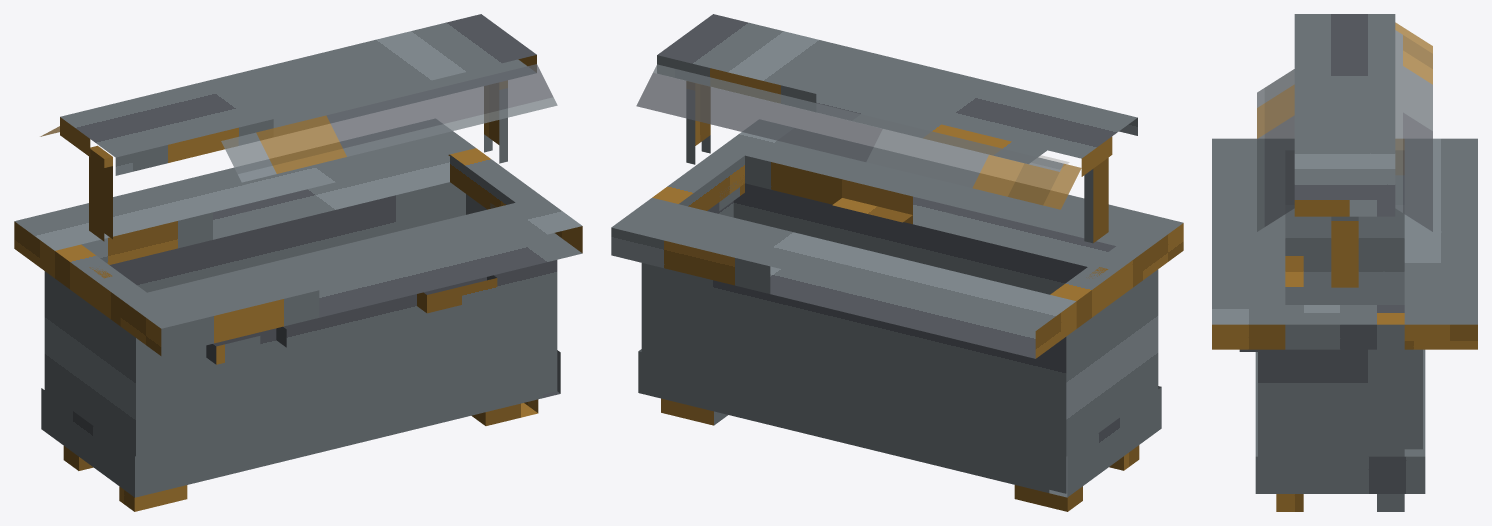
The model's file is food_stand_dual.fbx.
3 renders of one model, left to right at view 1: azimuth 30°, elevation 25°; view 2: azimuth 150°, elevation 25°; view 3: azimuth 270°, elevation 25°, orthographic. The views are drawn at different scales.
Visible parts, largest first — view 1: cube.003, cube.013, cube.002; view 2: cube.003, cube.013, cube.002; view 3: cube.003, cube.013, cube.002.
Boxes of the visible parts, x1,y1,x2,y2 form: cube.003: (14,14,582,511); cube.013: (40,64,557,182); cube.002: (41,64,556,181); cube.003: (611,14,1183,511); cube.013: (636,64,1081,209); cube.002: (637,65,1080,209); cube.003: (1212,14,1477,511); cube.013: (1257,22,1432,231); cube.002: (1257,23,1432,231).
Bounding box in the file's own units: 303 × 238 × 181.
